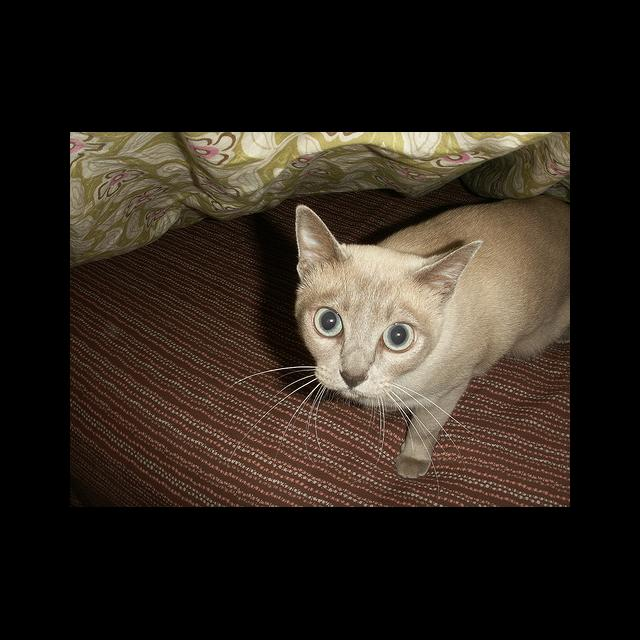animals: (300, 206, 480, 387)
